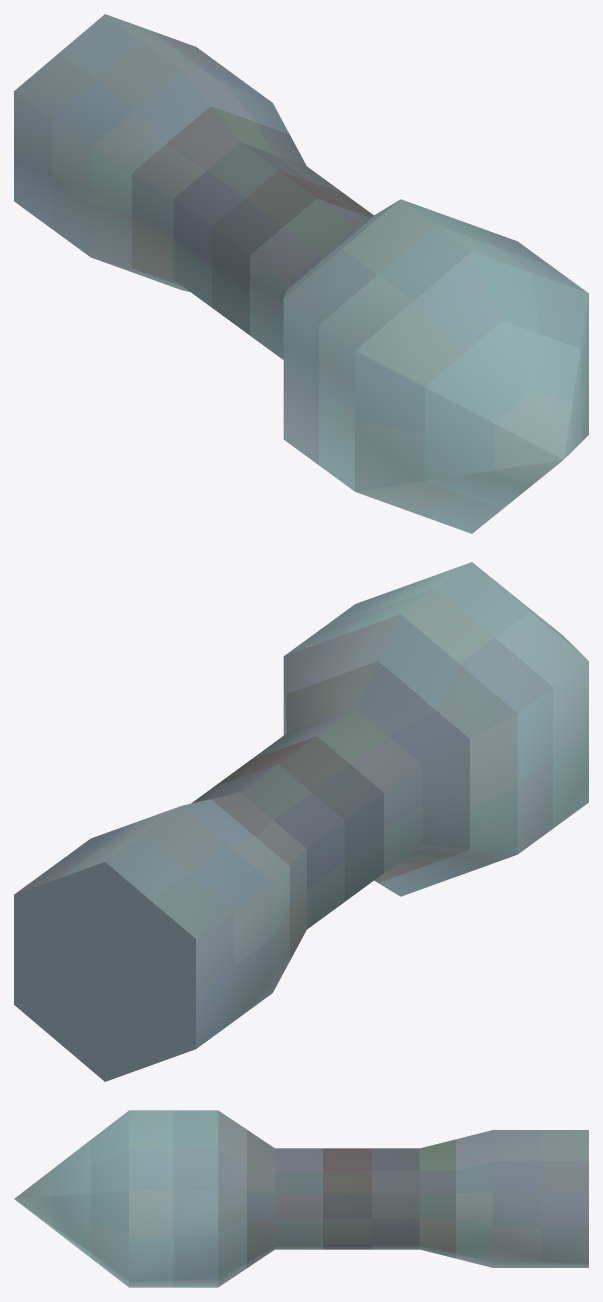
File: missile.glb
3 views of the same model, one above another, from view 1: azimuth 30°, elevation 25°; view 2: azimuth 150°, elevation 25°; view 3: azimuth 270°, elevation 25° (orthographic). The views are drawn at different scales.
Visible parts, largest first — view 1: Cylinder.001; view 2: Cylinder.001; view 3: Cylinder.001.
Boxes of the visible parts, bbox=[...] form: Cylinder.001: bbox=[14, 14, 588, 533]; Cylinder.001: bbox=[14, 562, 588, 1081]; Cylinder.001: bbox=[14, 1110, 588, 1287].
Bounding box in the file's own units: 0.2371 × 0.2738 × 0.8054.
1 material, 1 textured.
